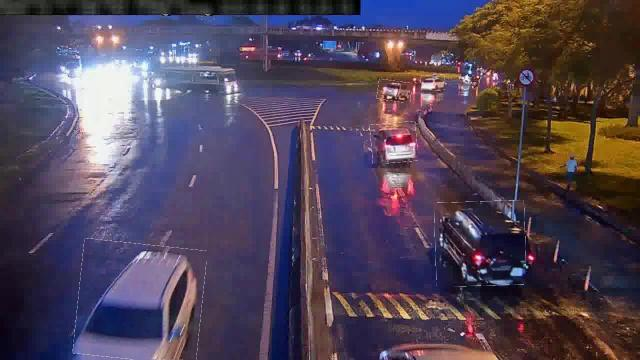Car: (76, 241, 204, 359), (434, 202, 526, 286), (370, 122, 418, 164), (377, 80, 411, 102), (421, 75, 445, 91)
